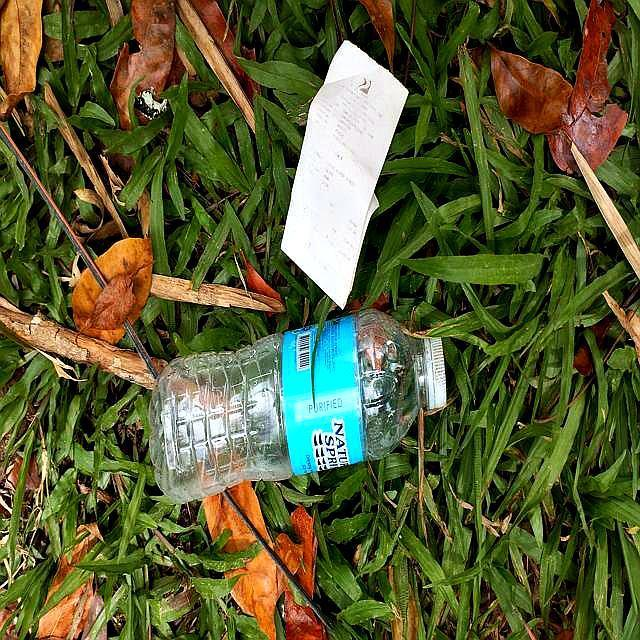Biodegradable: (274, 31, 411, 314)
Non-biodegradable: (153, 312, 448, 509)
